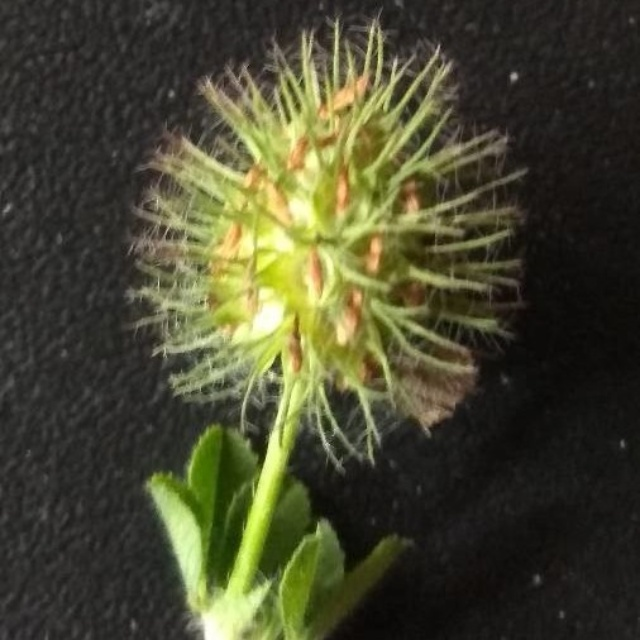obstacle: (116, 66, 493, 608)
